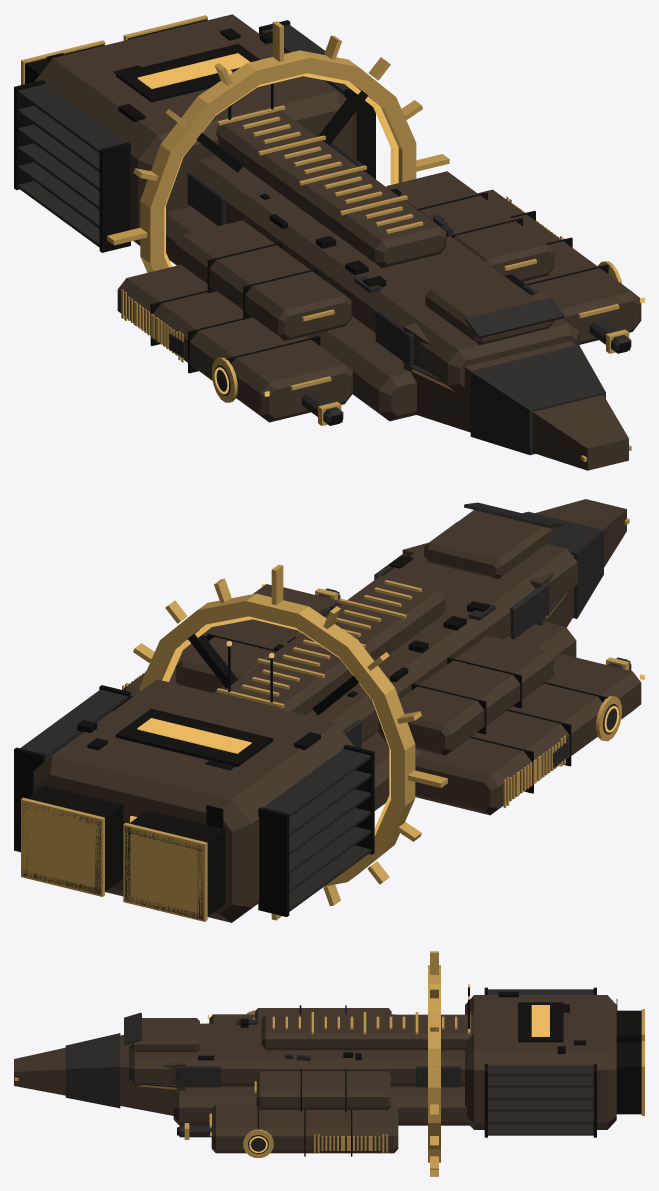
File: goniec-wybudzeni-trade-11-lod0.glb
3 renders of one model, top to bottom at view 1: azimuth 30°, elevation 25°; view 2: azimuth 150°, elevation 25°; view 3: azimuth 270°, elevation 25°, orthographic. The views are drawn at different scales.
Size of the model in its own units: 6.52 by 5.57 by 14.24.
